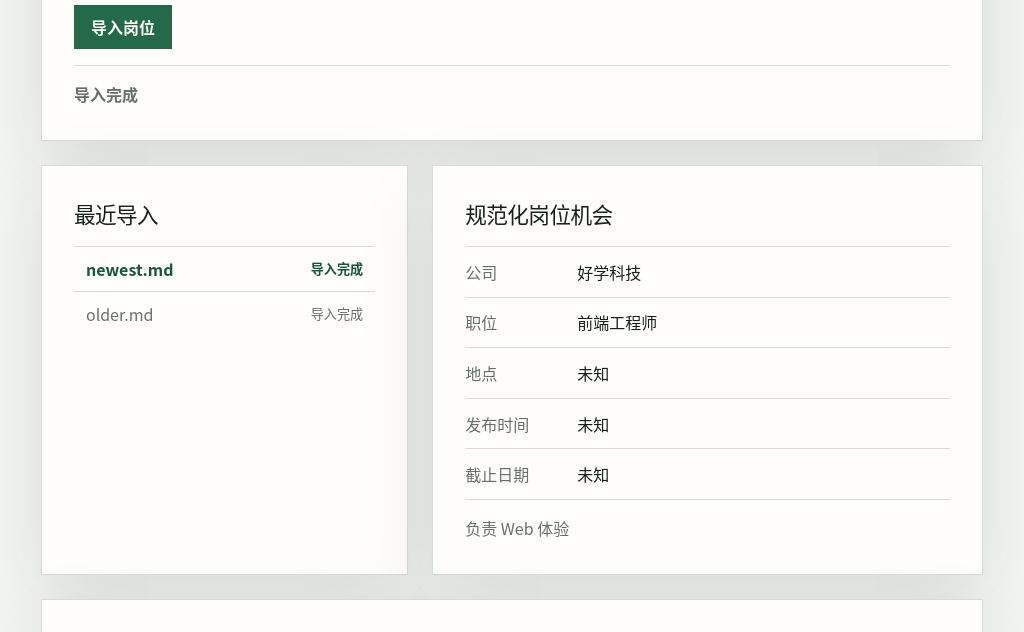
初始选择 API 返回的最新导入，并在刷新当前记录时重新读取详情
(page scrolled)
Step 1. Click the button "newest.md 导入完成" → [130, 269], box [74,247,375,291]
(page scrolled)
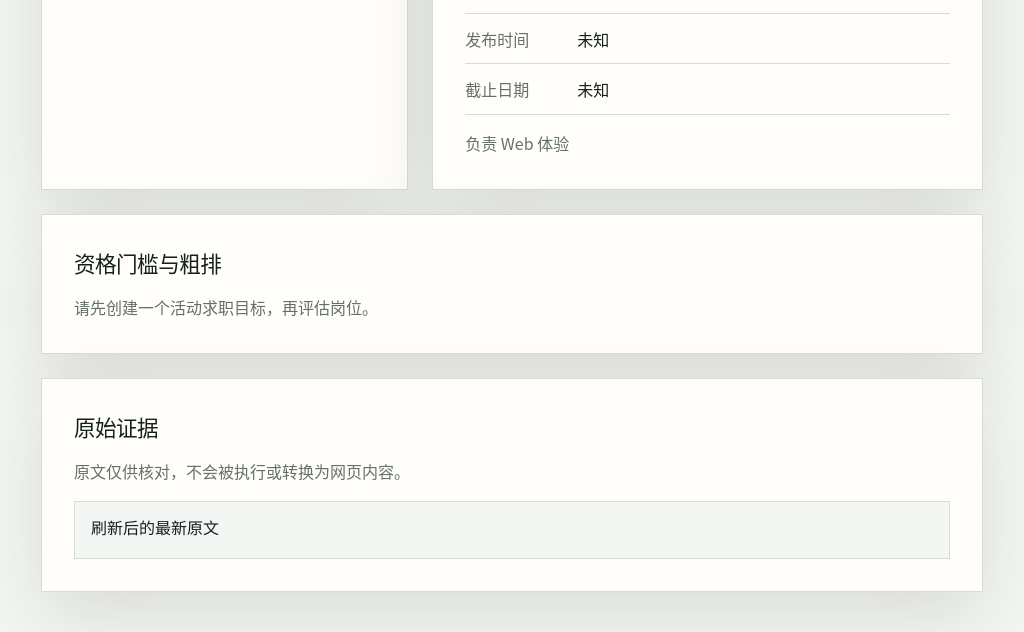
Expected: the text "刷新后的最新原文" is shown, [74,501,950,559]
